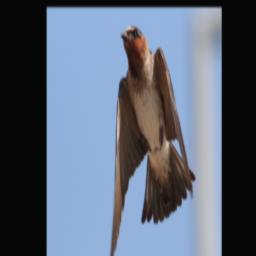Swallow: (109, 25, 195, 256)
